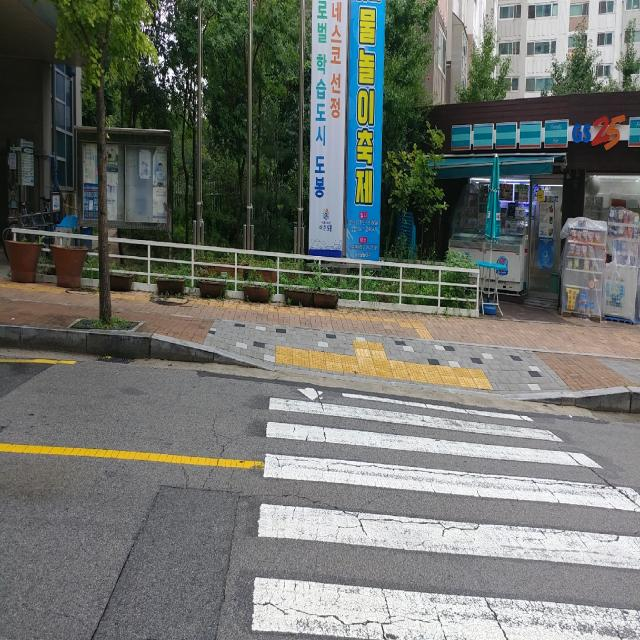횡단보도: (250, 385, 640, 640)
